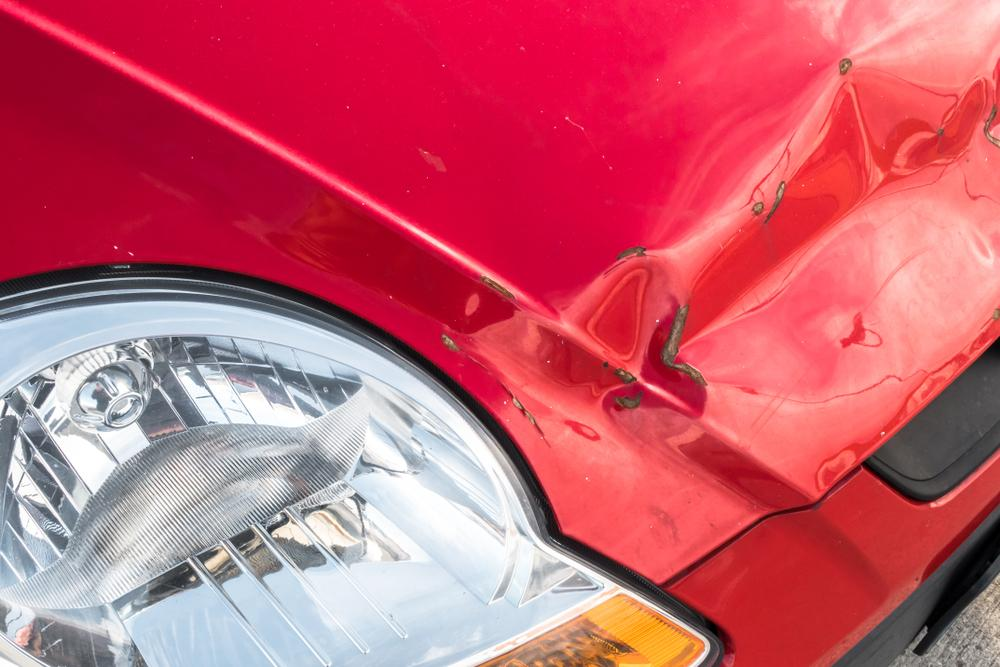dent: (479, 51, 1000, 441)
